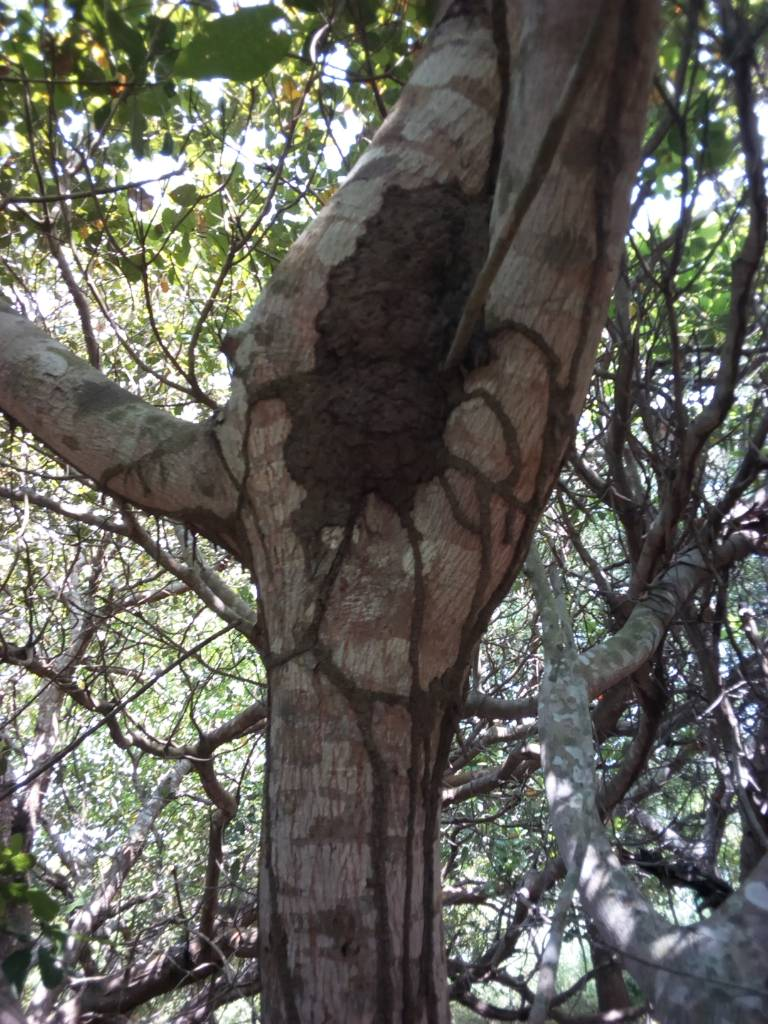Termites: (280, 183, 497, 514), (355, 624, 466, 1024)
